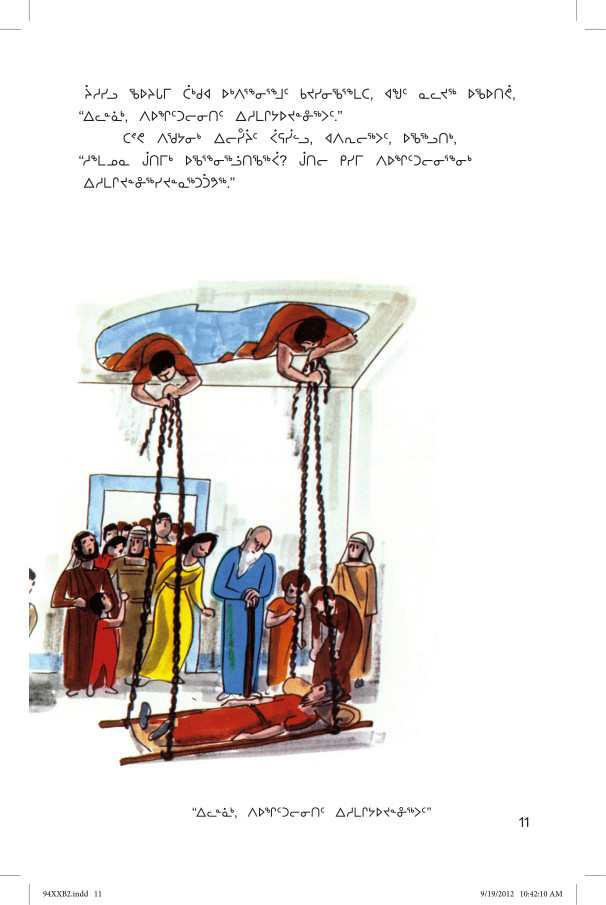inuktitut: (70, 76, 523, 192), (182, 794, 436, 825)
